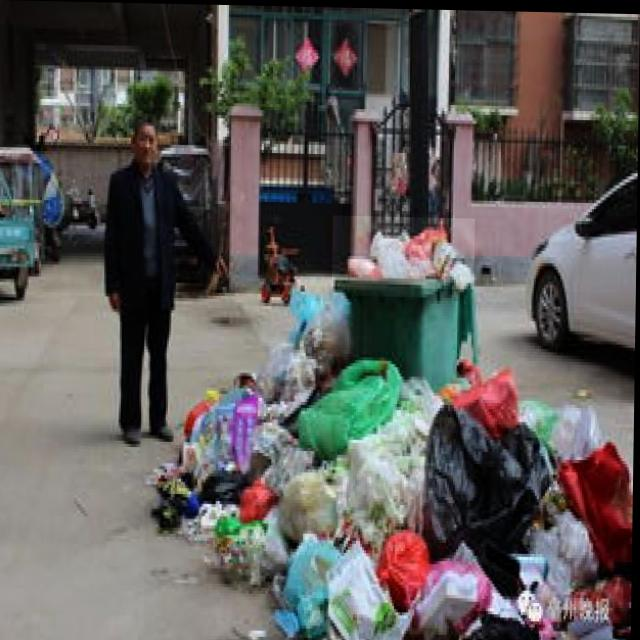garbage: (146, 282, 635, 640)
overflow: (331, 214, 476, 388)
